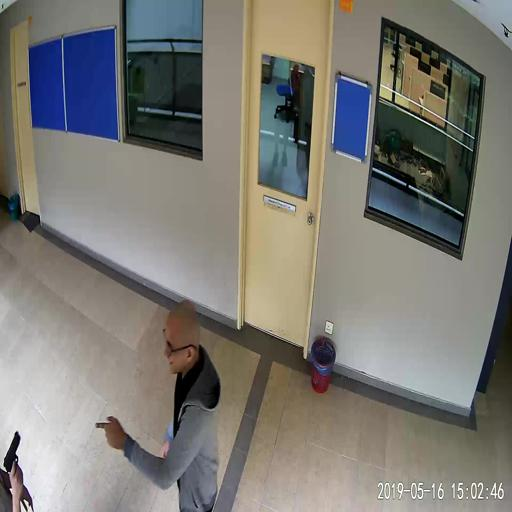pistol: (3, 431, 23, 483)
